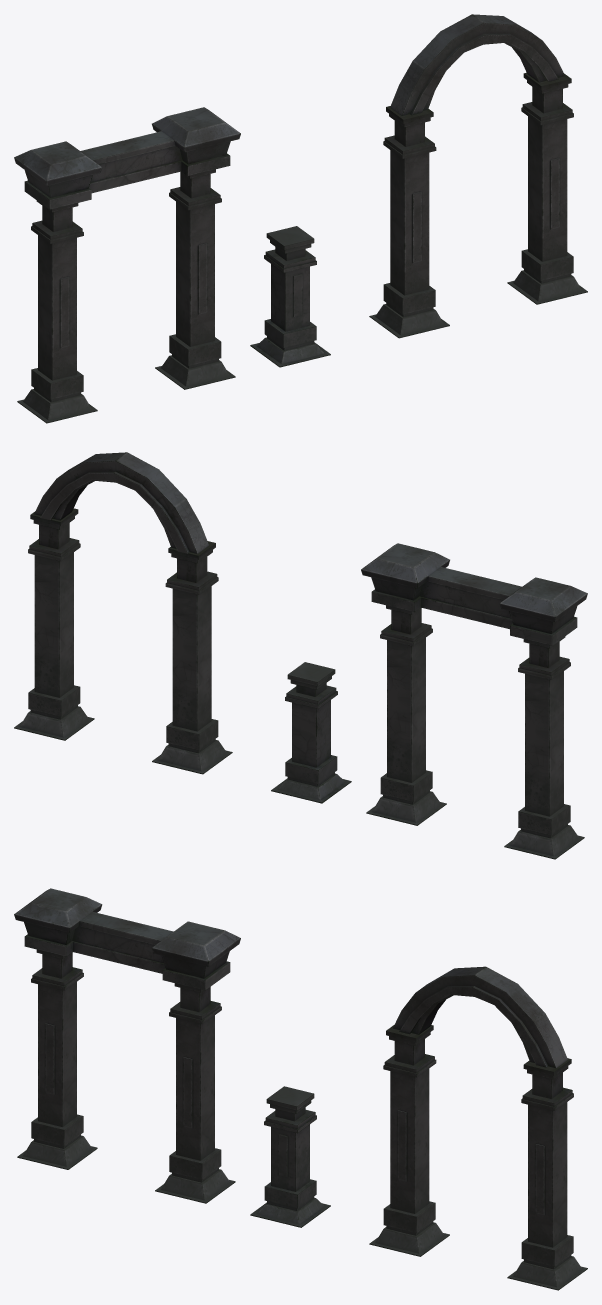
The model's file is RUINS.fbx.
3 views of the same model, one above another, from view 1: azimuth 30°, elevation 25°; view 2: azimuth 150°, elevation 25°; view 3: azimuth 330°, elevation 25° (orthographic).
Visible parts, largest first — view 1: arch7, arch5, pillar3; view 2: arch7, arch5, pillar3; view 3: arch7, arch5, pillar3.
Boxes of the visible parts, bbox=[...] form: arch7: bbox=[14, 107, 240, 423]; arch5: bbox=[369, 14, 587, 338]; pillar3: bbox=[250, 226, 330, 367]; arch7: bbox=[361, 543, 587, 859]; arch5: bbox=[14, 452, 232, 774]; pillar3: bbox=[271, 662, 351, 803]; arch7: bbox=[14, 888, 240, 1203]; arch5: bbox=[369, 966, 587, 1290]; pillar3: bbox=[250, 1086, 330, 1227].
Bounding box in the file's own units: 866 × 434 × 89.76.
